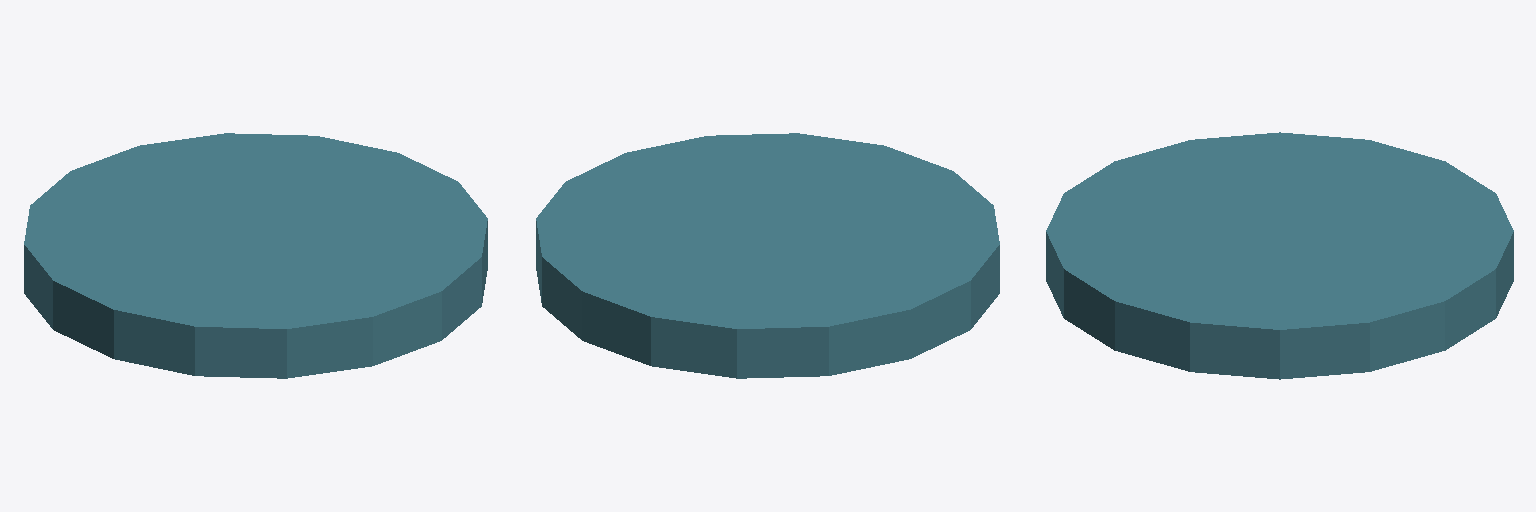
File: water_circular.obj
3 views of the same model, side by side, from view 1: azimuth 30°, elevation 25°; view 2: azimuth 150°, elevation 25°; view 3: azimuth 270°, elevation 25° (orthographic).
Parts seen in each view (by area): view 1: __.1; view 2: __.1; view 3: __.1.
Part boxes in pixels (x1,y1,x2,y2): __.1: (24,133,487,378); __.1: (536,133,999,378); __.1: (1046,132,1513,379).
Size of the model in its own units: 3548 by 414 by 3548.